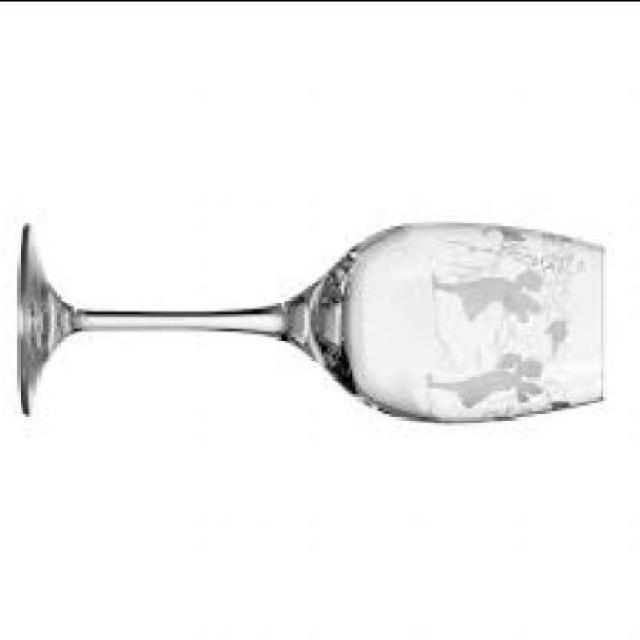glass: (23, 223, 606, 428)
